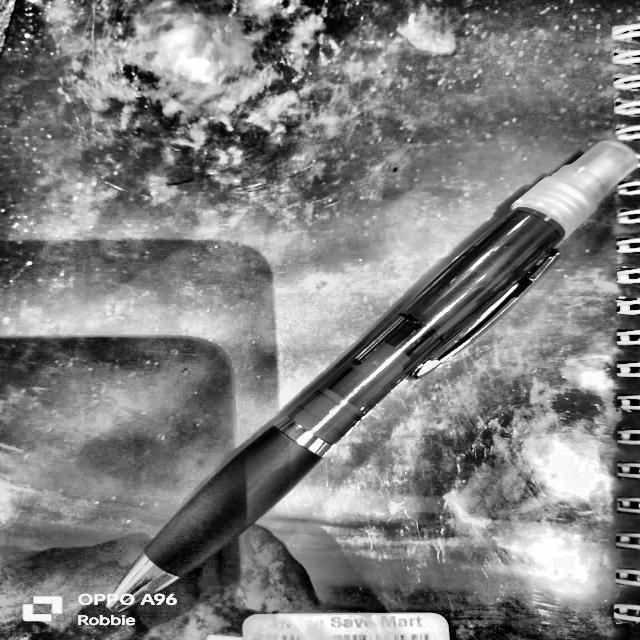Pen: (47, 122, 638, 631)
